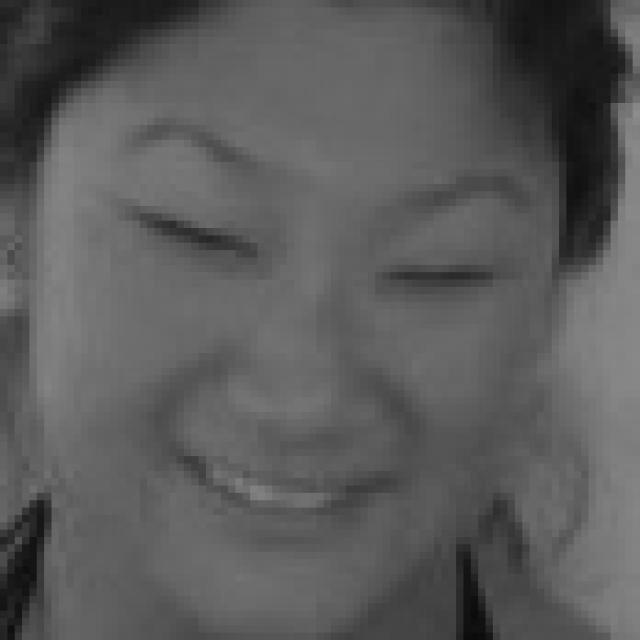real: (82, 40, 520, 588), (104, 158, 532, 306)
